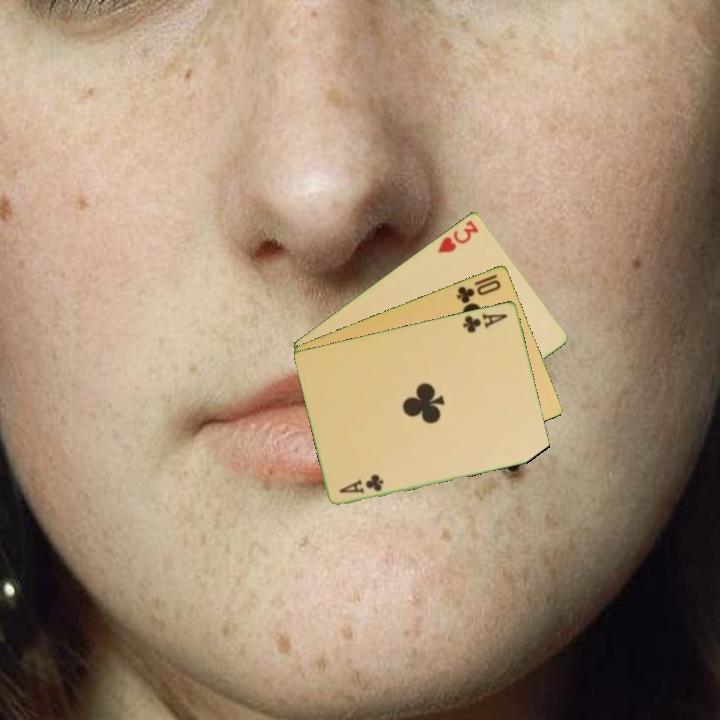10c: (453, 276, 504, 306)
3h: (434, 216, 482, 256)
Ac: (459, 310, 511, 335), (336, 471, 387, 496)
